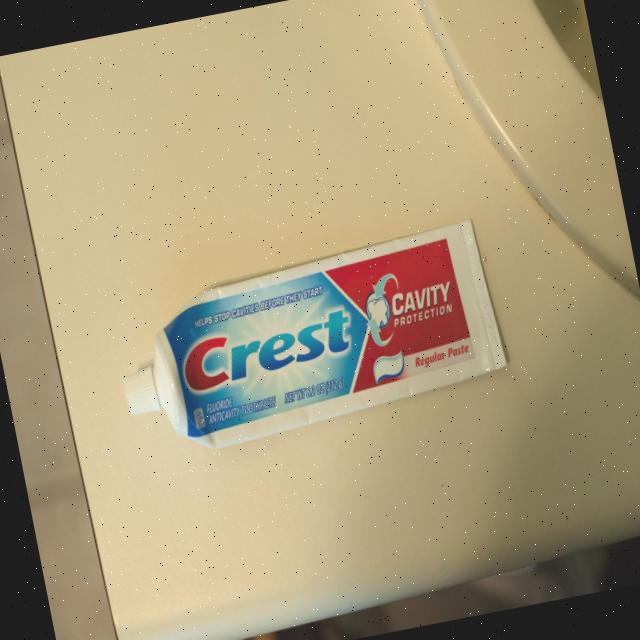Toothpaste: (91, 202, 526, 464)
